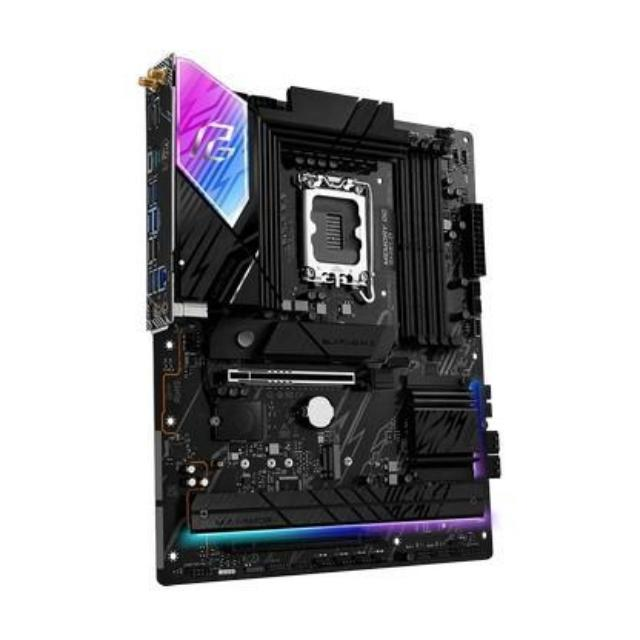Mainboard: (138, 59, 498, 592)
